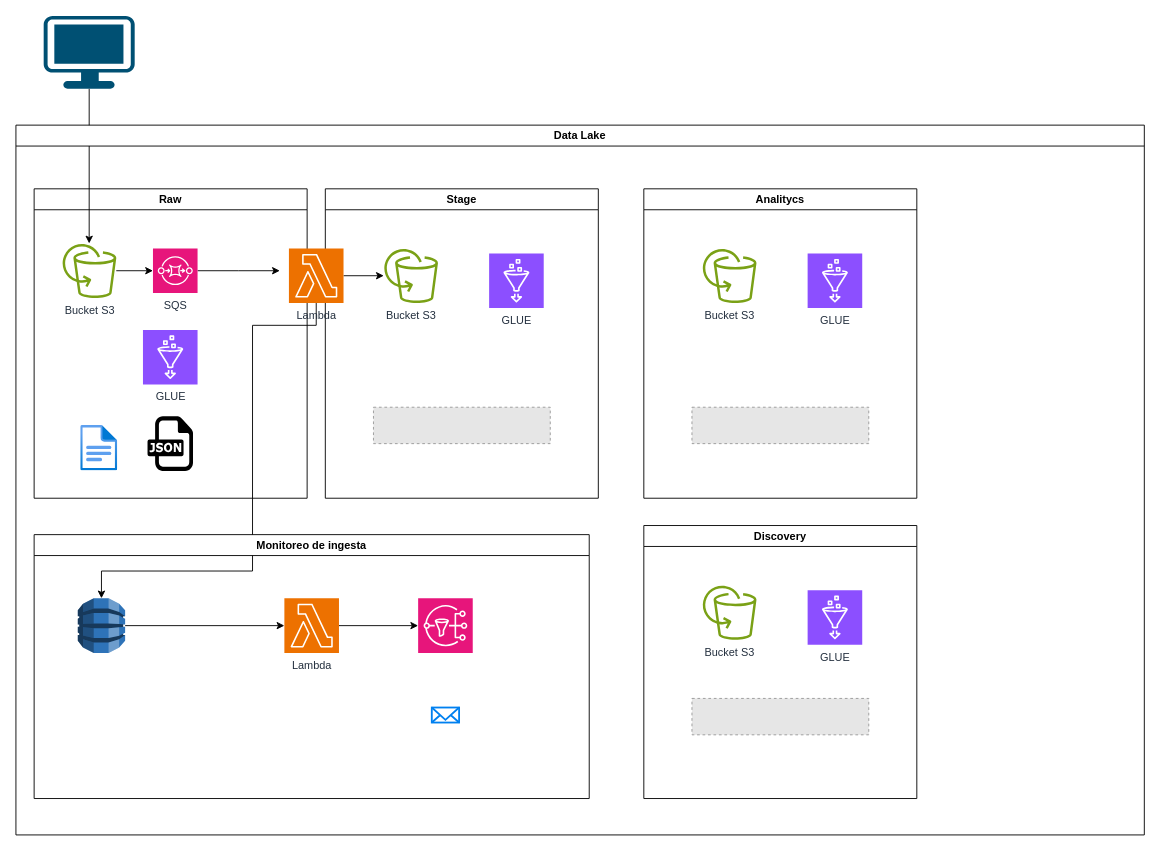
The diagram is 1160 pixels wide and 851 high, and some of its shapes have lost their labels. Grey dashed boxes stand in for pictures. The shapes that lost their labels are listed below. From the top down, each one's centre as x and y in pixels, then its label:
At point 101,625: "Dynamo DB".
At point 445,625: "SNS".
